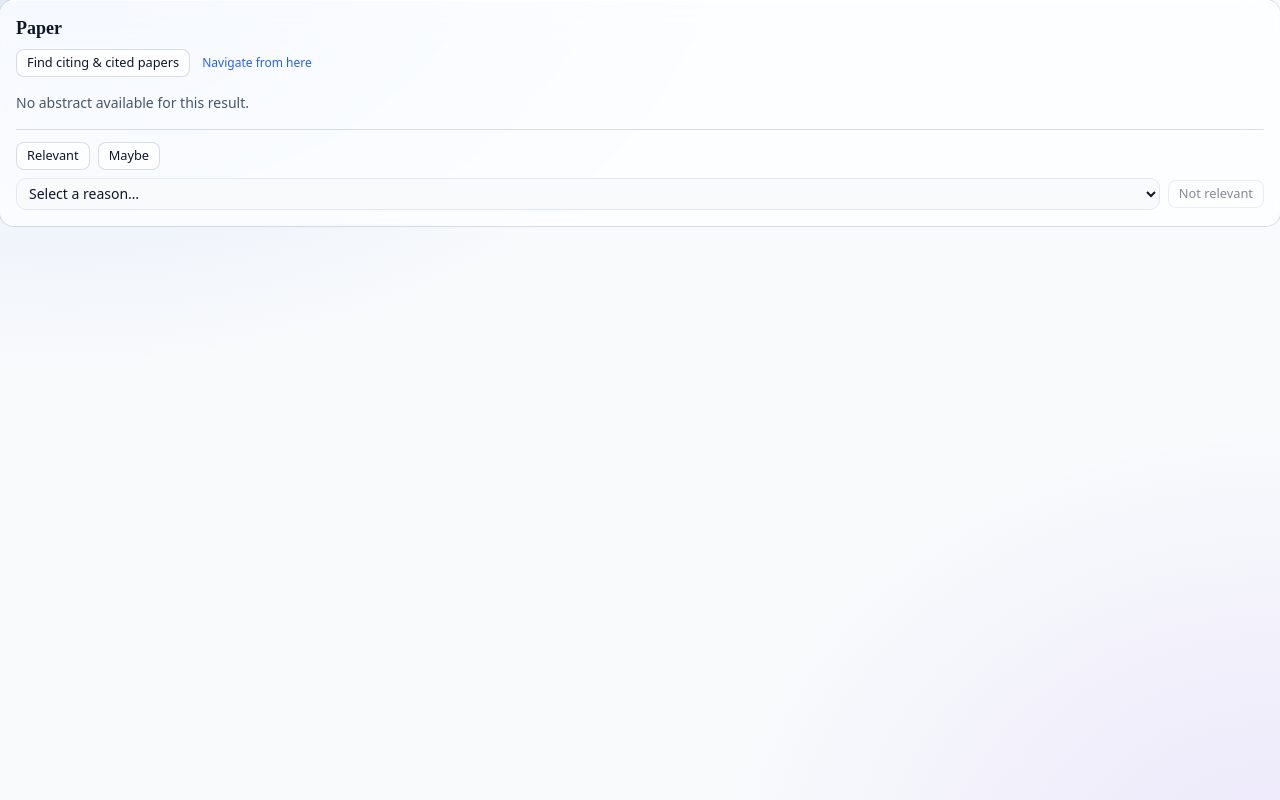
Test: Find citing & cited papers snowballs only this hit, both ways, and says what it found
The image size is (1280, 800).
Click the button "Find citing & cited papers" at (103, 63), box [16,49,190,77]
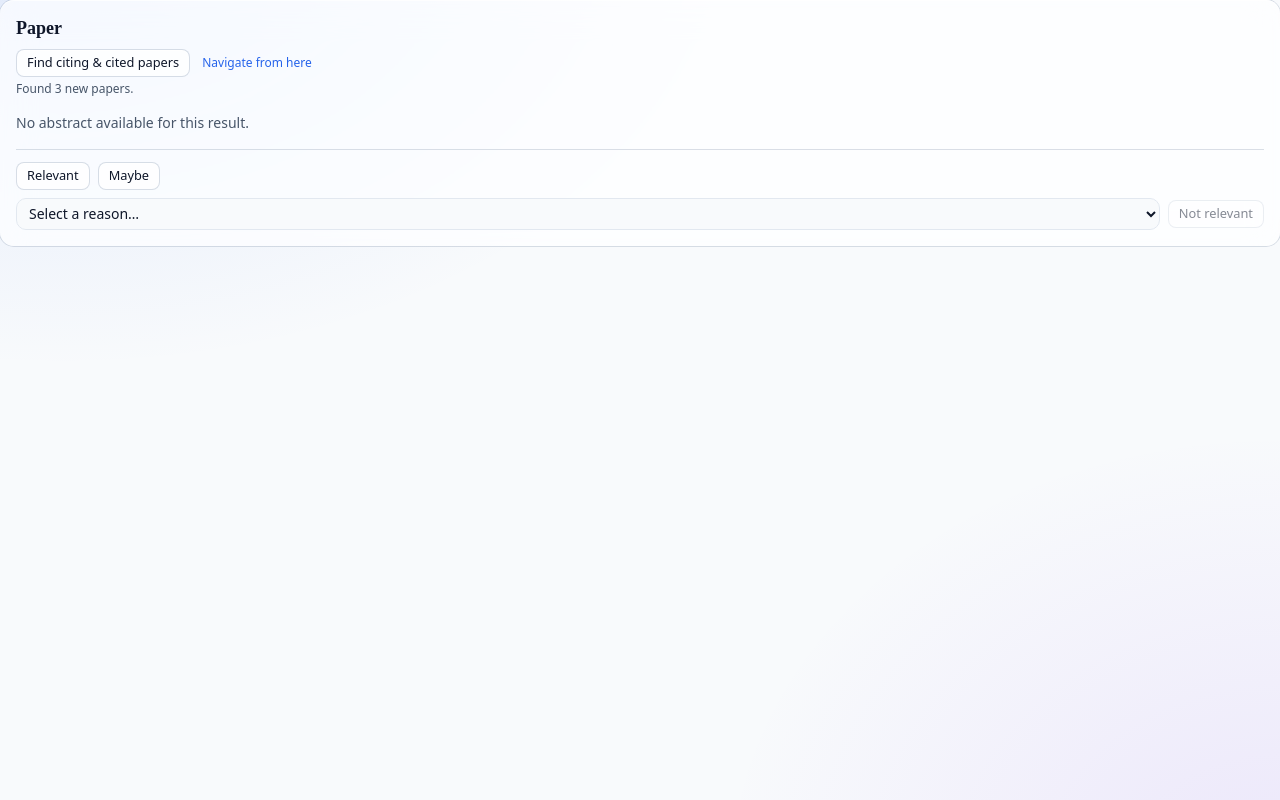
Expected: the text "Found 3 new papers." is shown, [16,80,134,97]
